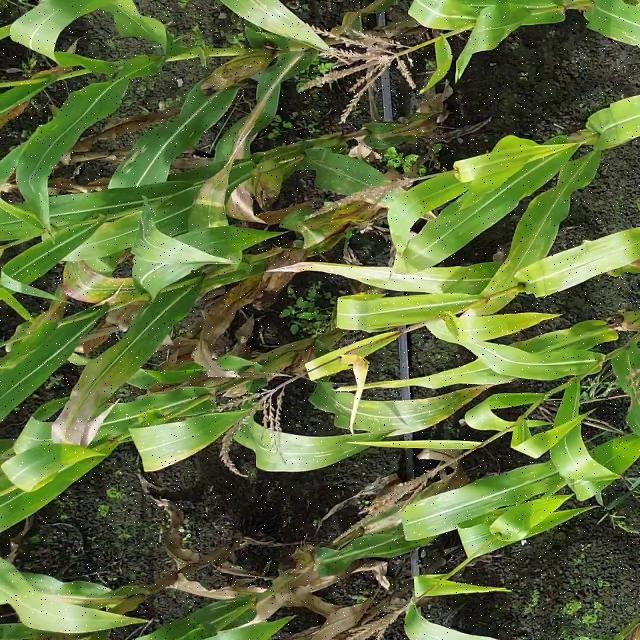gray-leaf-spot: (309, 381, 484, 468), (66, 575, 273, 640)
northern-leaf-blight: (29, 302, 187, 459), (178, 131, 254, 256), (49, 256, 161, 317)
southern-leaf-blight: (319, 148, 387, 224)
